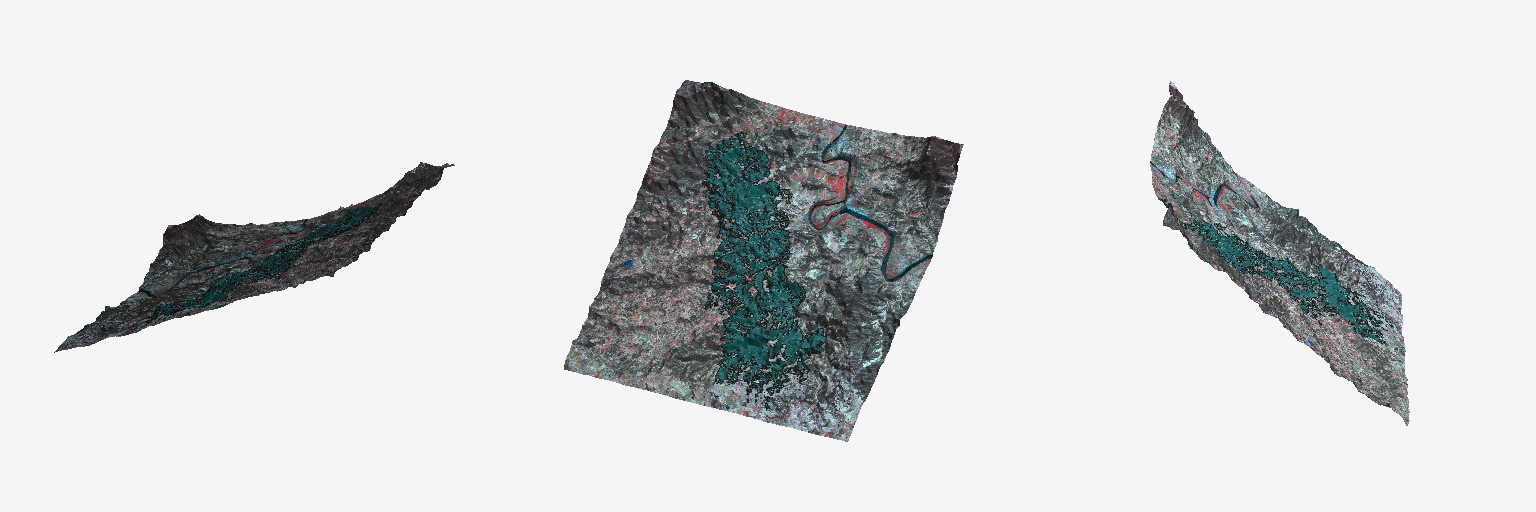
3 views of the same model, side by side, from view 1: azimuth 30°, elevation 25°; view 2: azimuth 150°, elevation 25°; view 3: azimuth 270°, elevation 25° (orthographic).
Parts seen in each view (by area): view 1: sentinelFoc_MetElipResi_2Lineas_2; view 2: sentinelFoc_MetElipResi_2Lineas_2; view 3: sentinelFoc_MetElipResi_2Lineas_2.
Boxes of the visible parts, x1=… form: sentinelFoc_MetElipResi_2Lineas_2: x1=54, y1=162, x2=454, y2=352; sentinelFoc_MetElipResi_2Lineas_2: x1=564, y1=80, x2=963, y2=441; sentinelFoc_MetElipResi_2Lineas_2: x1=1150, y1=81, x2=1409, y2=425.
Bounding box in the file's own units: 40.08 × 29.31 × 31.92.
Materials: 1 (1 with a texture image).